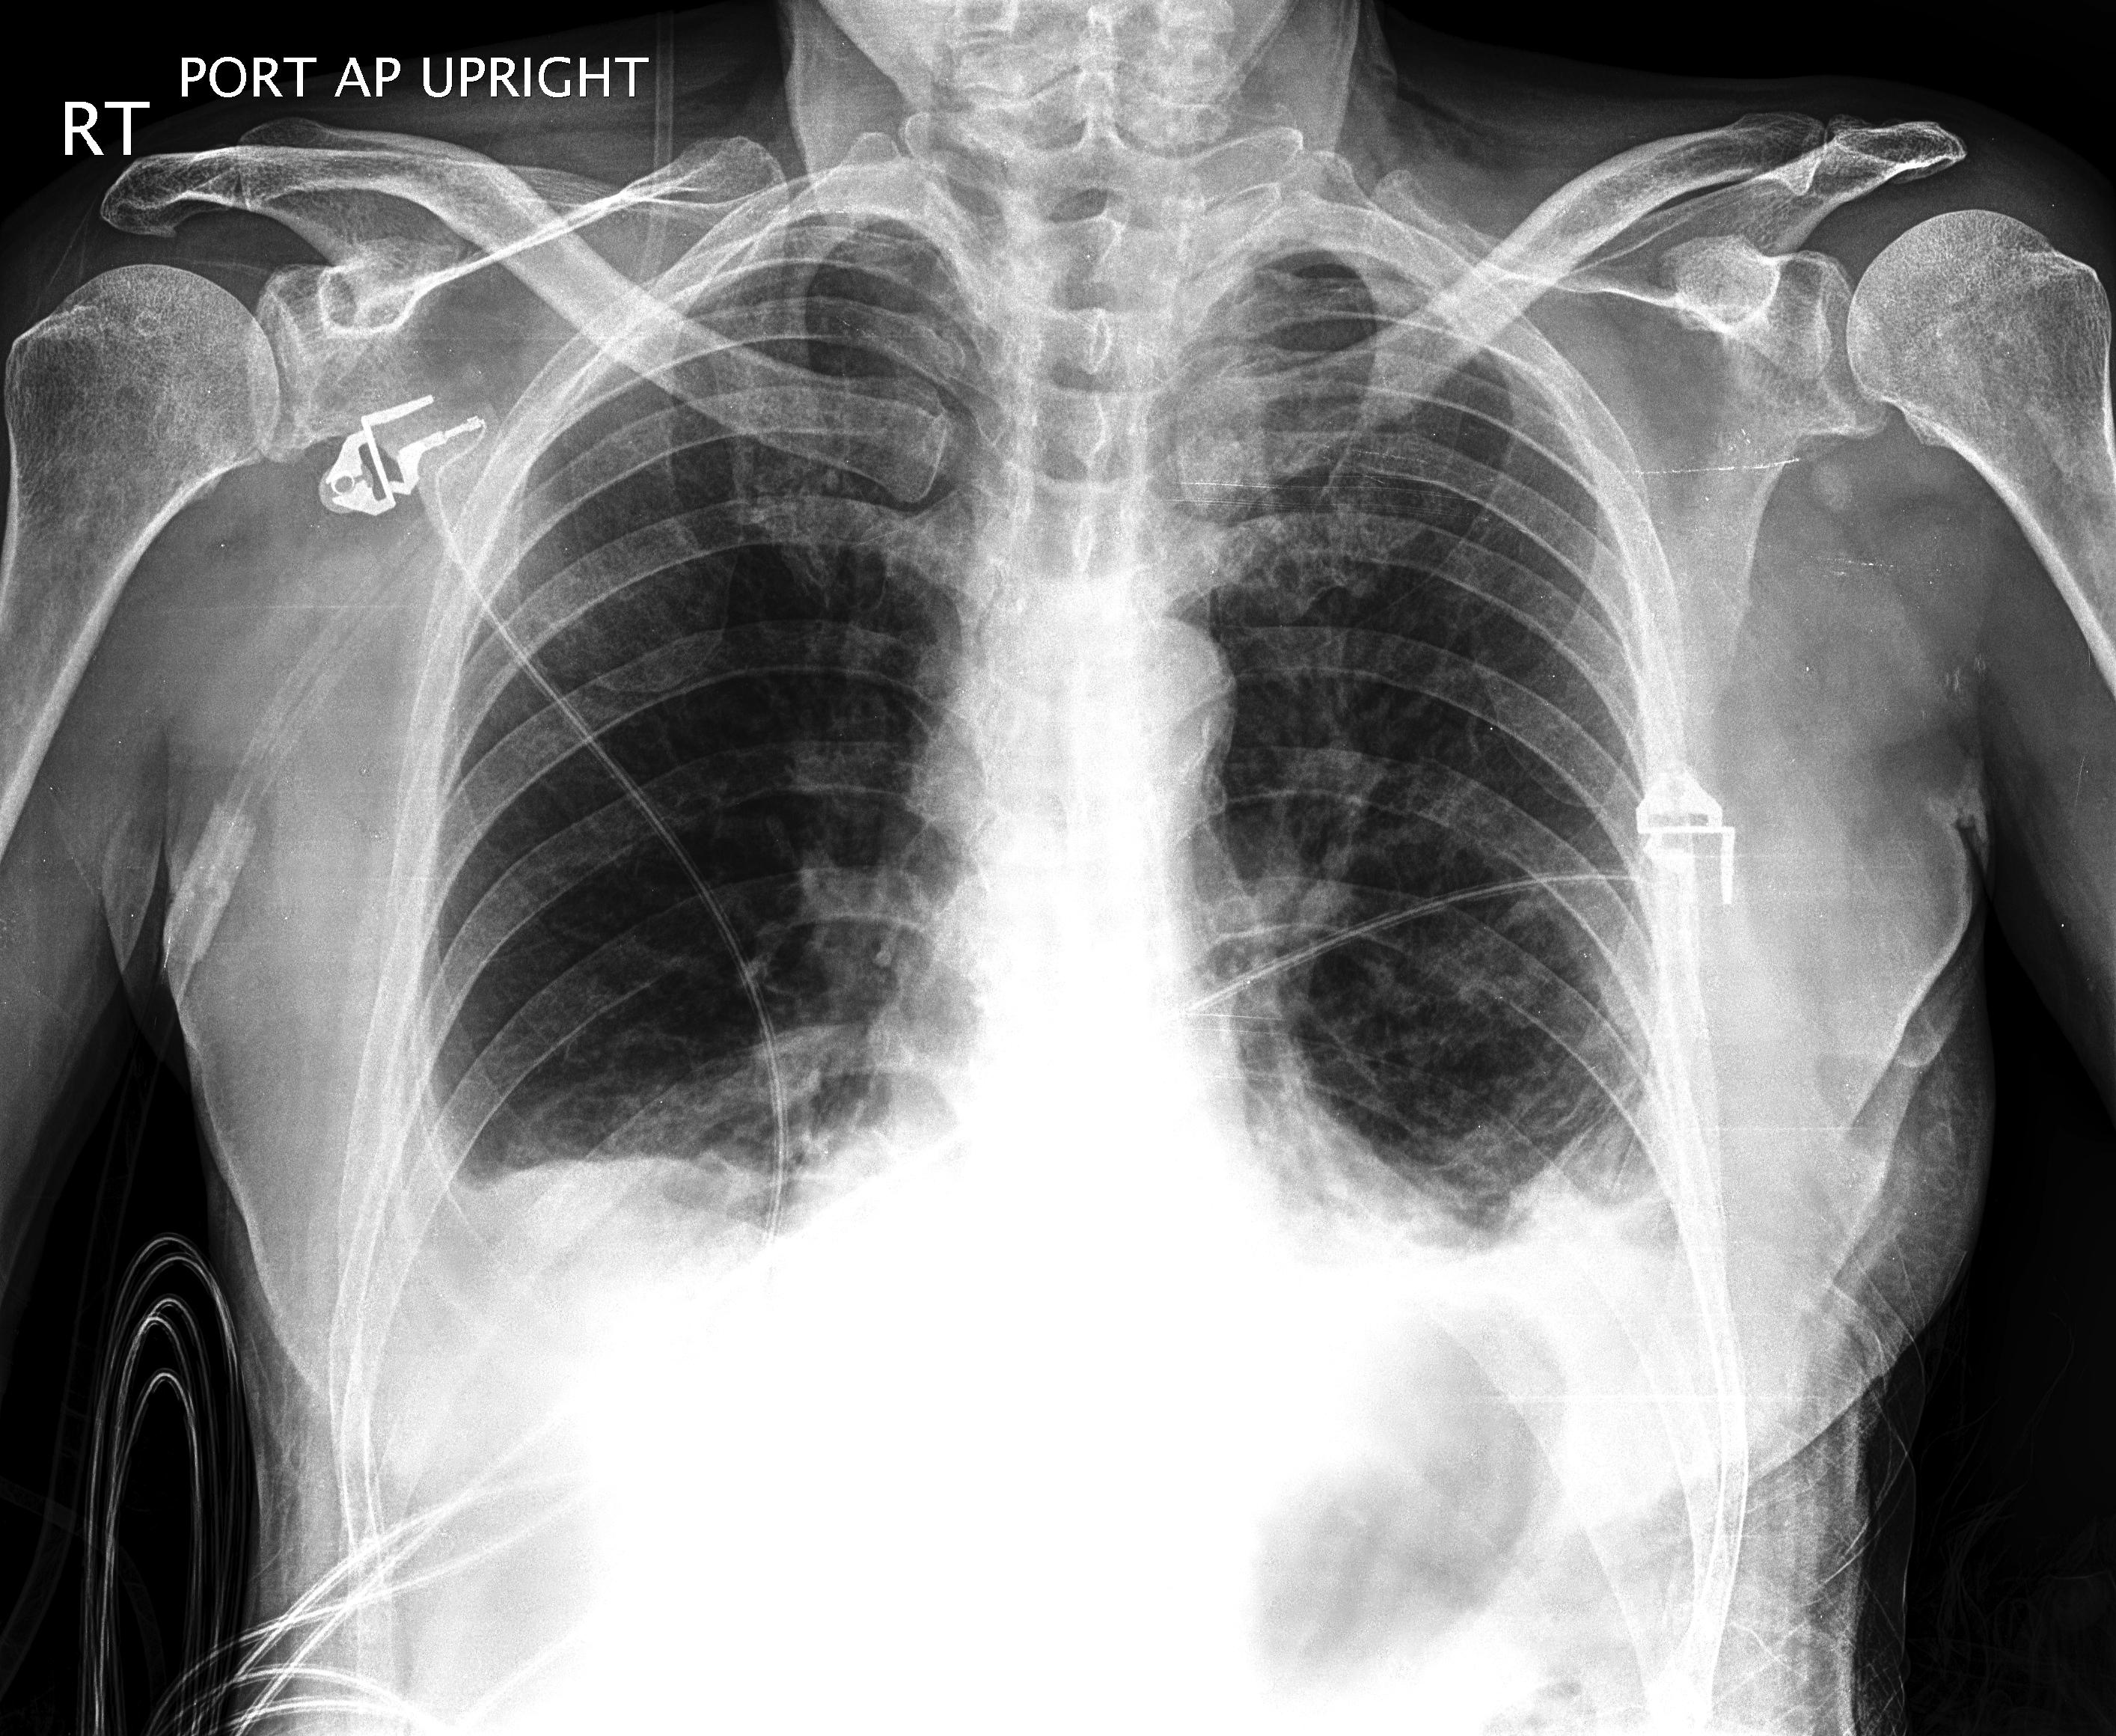Pleural Effusion: (315, 1118, 807, 1441), (1325, 1170, 1803, 1465)
